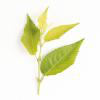Cherry leaf: (40, 41, 84, 78), (19, 13, 41, 64), (43, 21, 80, 42)
